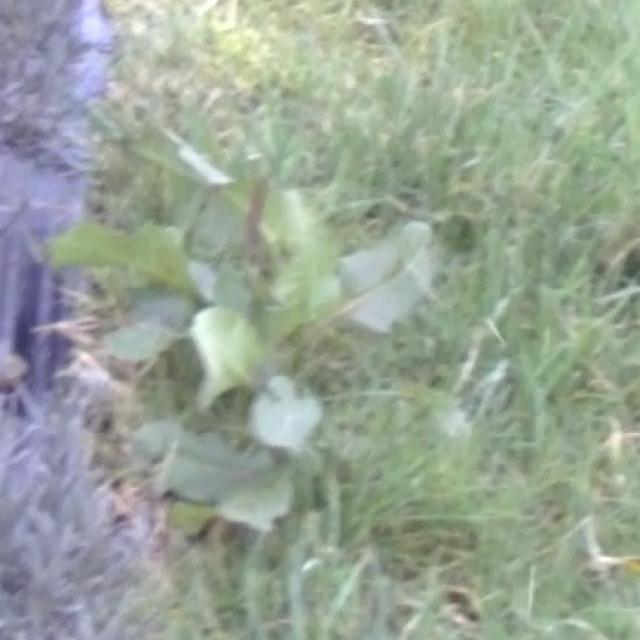organic waste: (60, 111, 435, 551)
